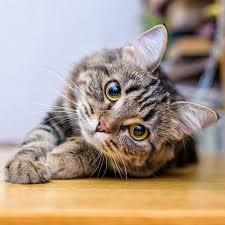Cat: (70, 24, 221, 161)
